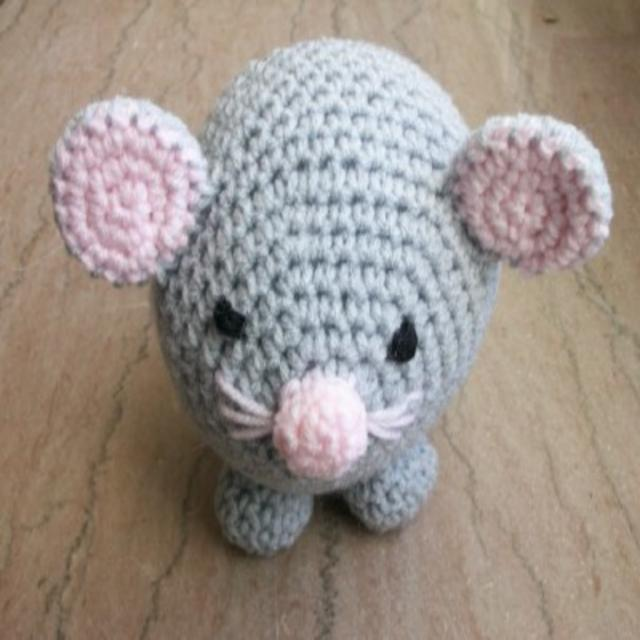rat: (31, 74, 596, 605)
